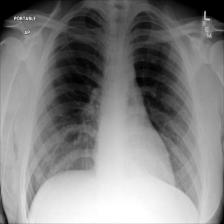normal: (19, 1, 207, 224)
